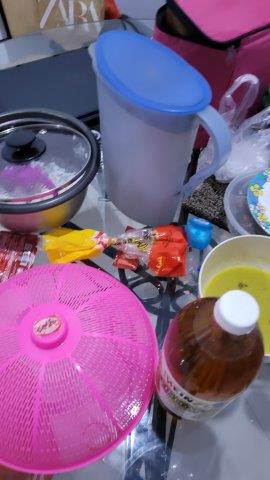plastik: (201, 78, 270, 178)
